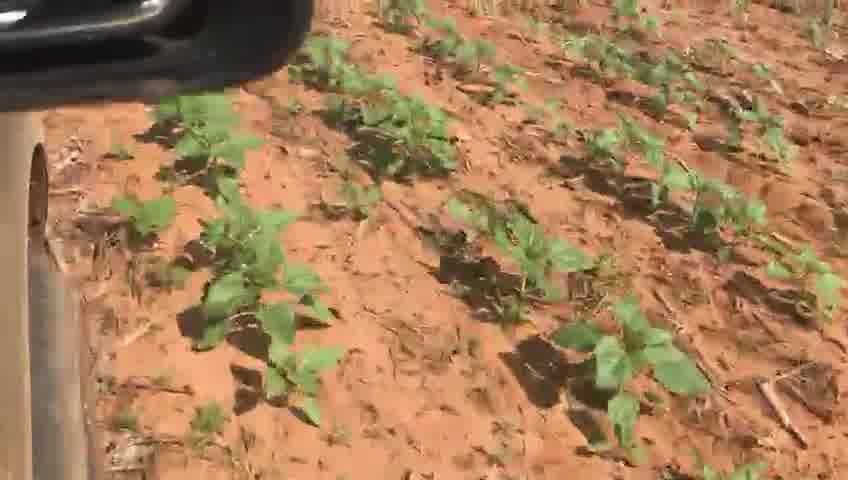sunflower: (559, 299, 708, 424), (453, 198, 584, 303), (196, 255, 338, 340), (340, 91, 462, 172), (187, 189, 298, 270), (163, 114, 261, 194), (248, 334, 339, 417), (618, 128, 697, 208), (299, 40, 399, 101), (686, 180, 765, 253), (767, 247, 838, 308), (572, 122, 637, 174), (444, 31, 505, 76), (494, 60, 532, 101)
